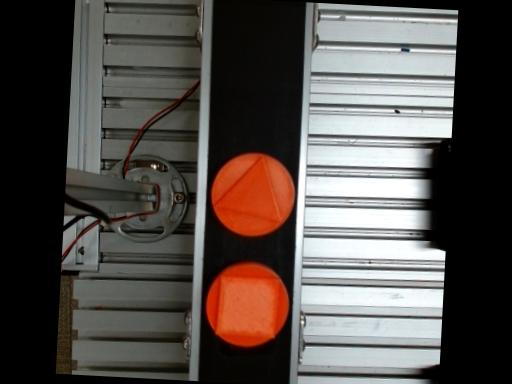Not_Square: (211, 153, 280, 222)
Orange_Waper: (204, 262, 288, 347), (210, 152, 293, 236)
Square: (213, 275, 279, 338)
